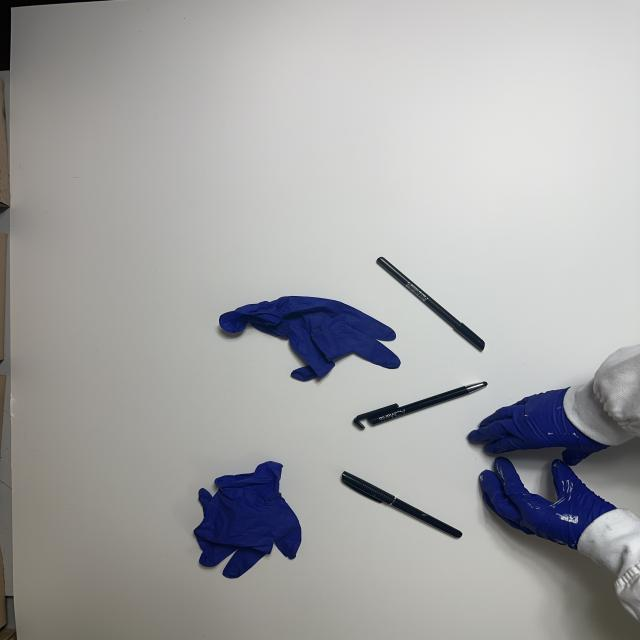gloves_contaminated: (480, 457, 615, 549), (468, 390, 608, 466)
